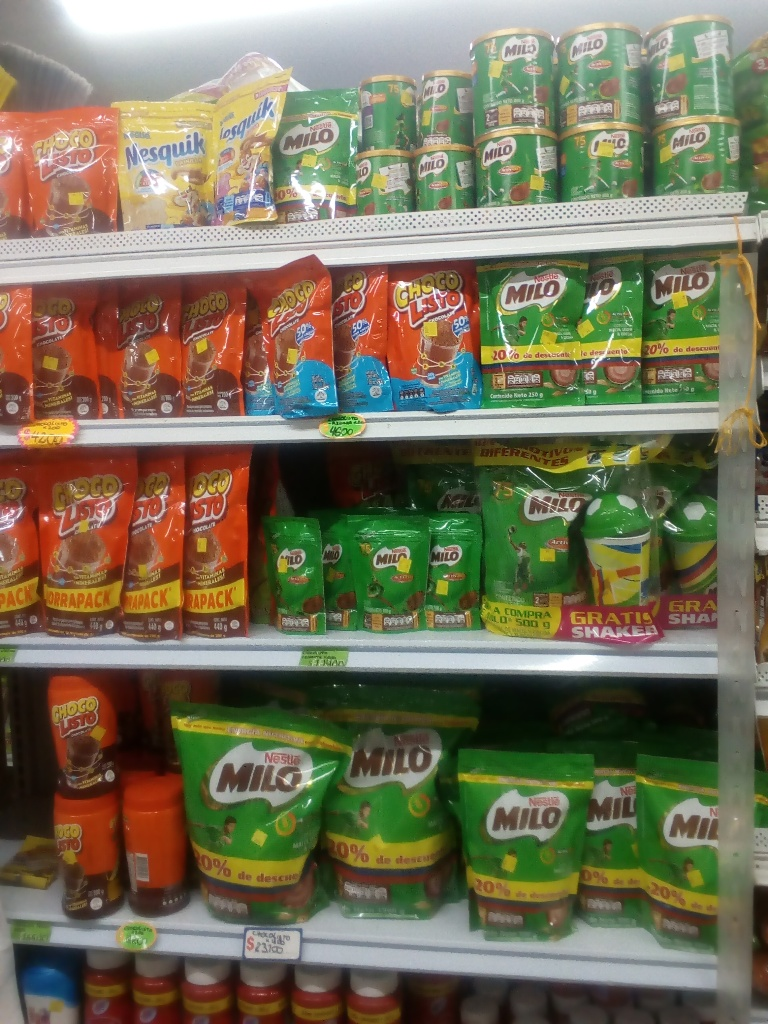COL0170103DYP44000: (1, 451, 47, 639)
COL0170103TRR30000: (46, 686, 112, 797)
COL0170104DYP20000: (254, 264, 332, 416)
COL0170203DYP10000: (265, 514, 318, 634)
COL0170203DYP25000: (483, 257, 574, 409)
COL0170203DYP50000: (477, 444, 580, 636)
COL0170203LAT20000: (355, 78, 417, 152)
COL0170203LAT40000: (467, 30, 557, 131)
COL0170305DYP20000: (209, 73, 291, 223)
COL0170306DYP20000: (115, 96, 207, 231)
